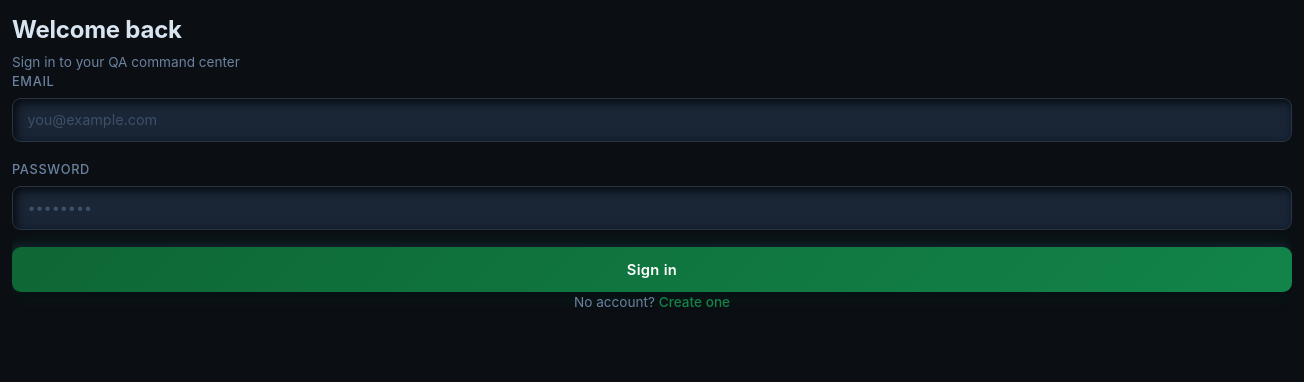
Sign in with invalid credentials › shows an error message and does not navigate away
The width and height of the screenshot is (1304, 382).
In the field labelled "Email": (652, 120) [12,98,1292,142], type "user@example.com"
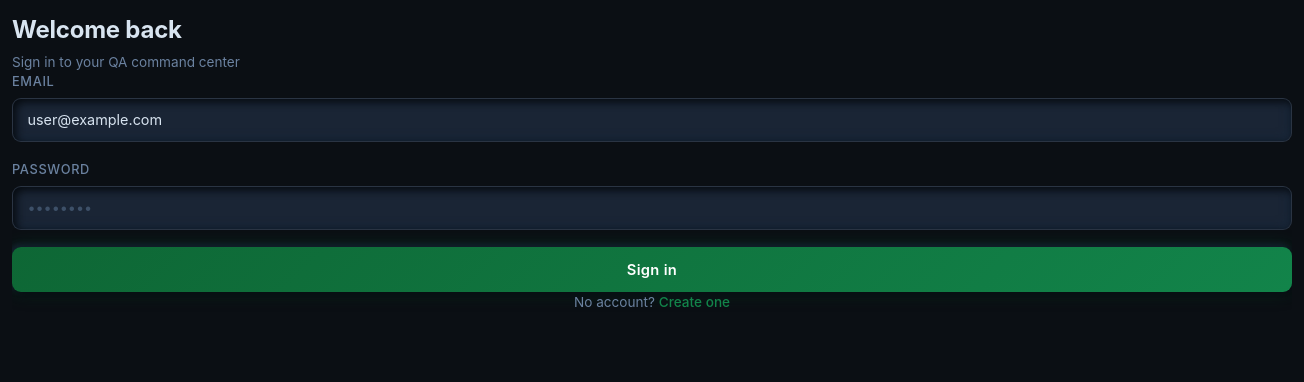
In the password field labelled "Password": (652, 208) [12,186,1292,230], type "wrongpassword"
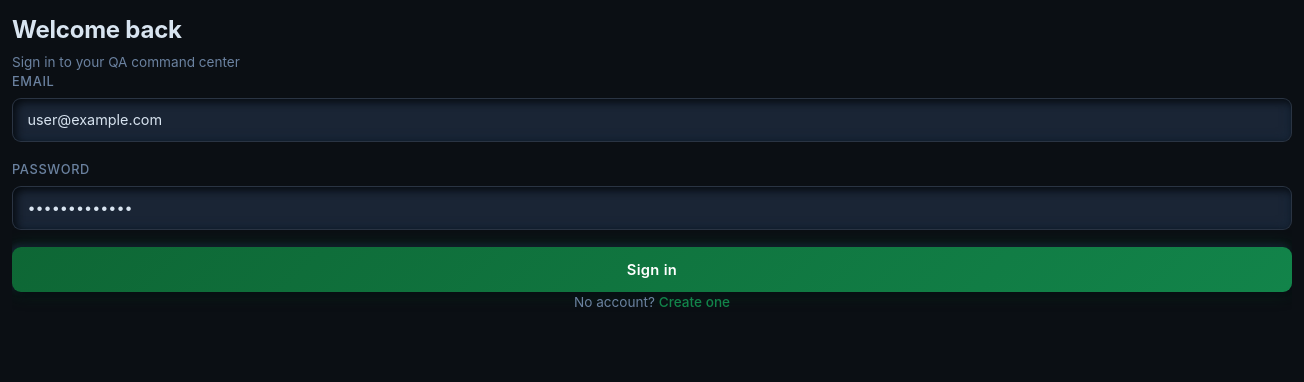
Click the button "Sign in": (652, 270) [12,248,1292,292]
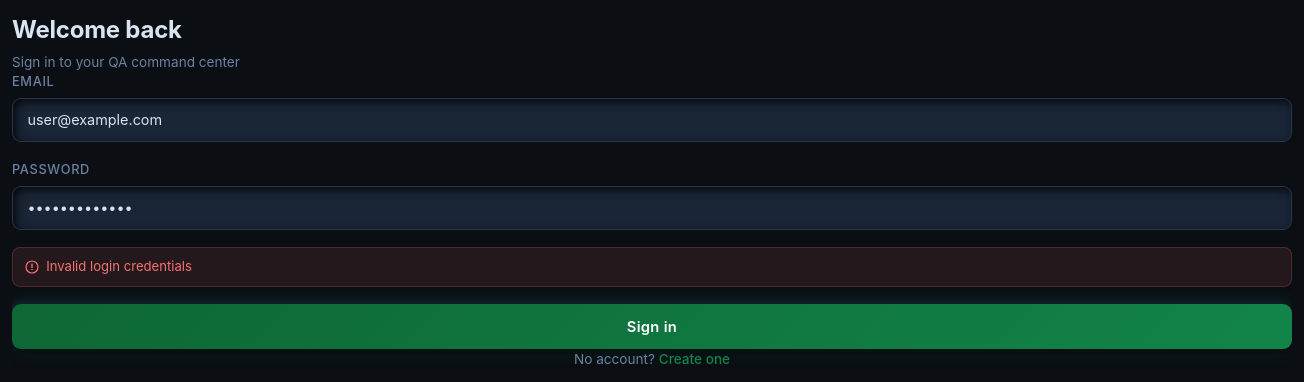
Expected: the message "Invalid login credentials" is shown, [12,248,1292,287]
Expected: the message reads "Invalid login credentials", [46,258,192,274]
